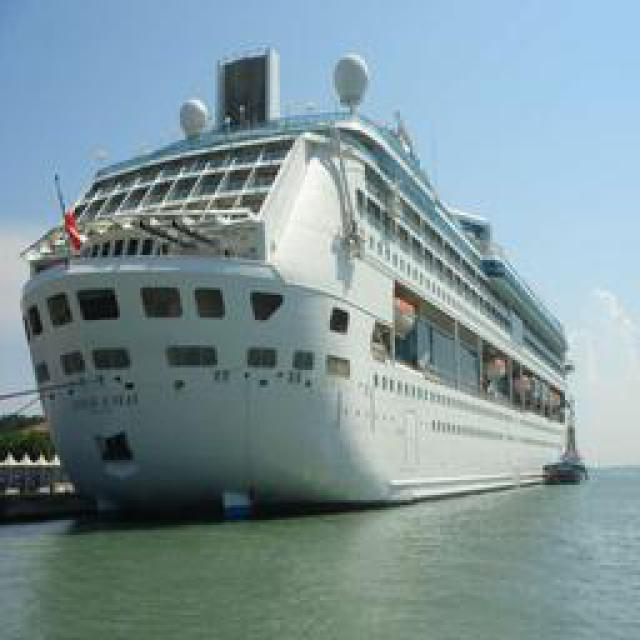Ship: (15, 38, 588, 516)
